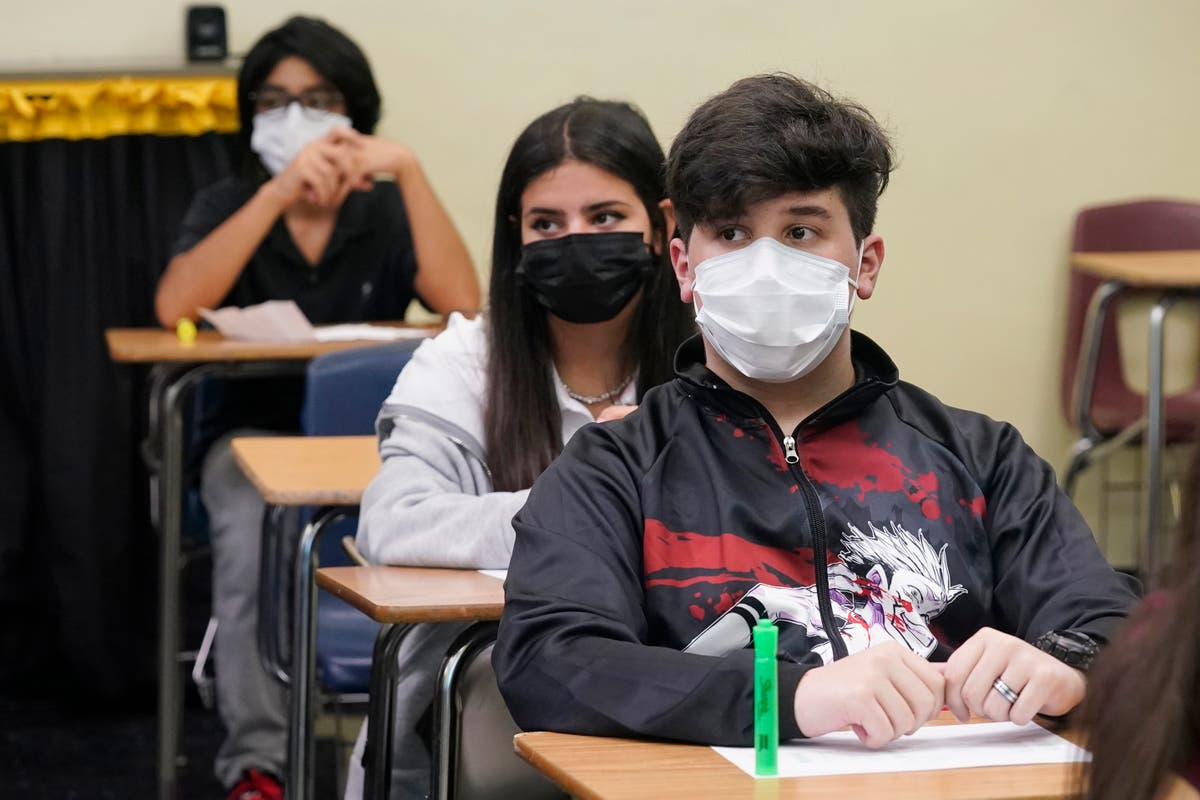with_mask: (683, 161, 858, 369), (518, 167, 654, 313), (253, 56, 365, 172)
